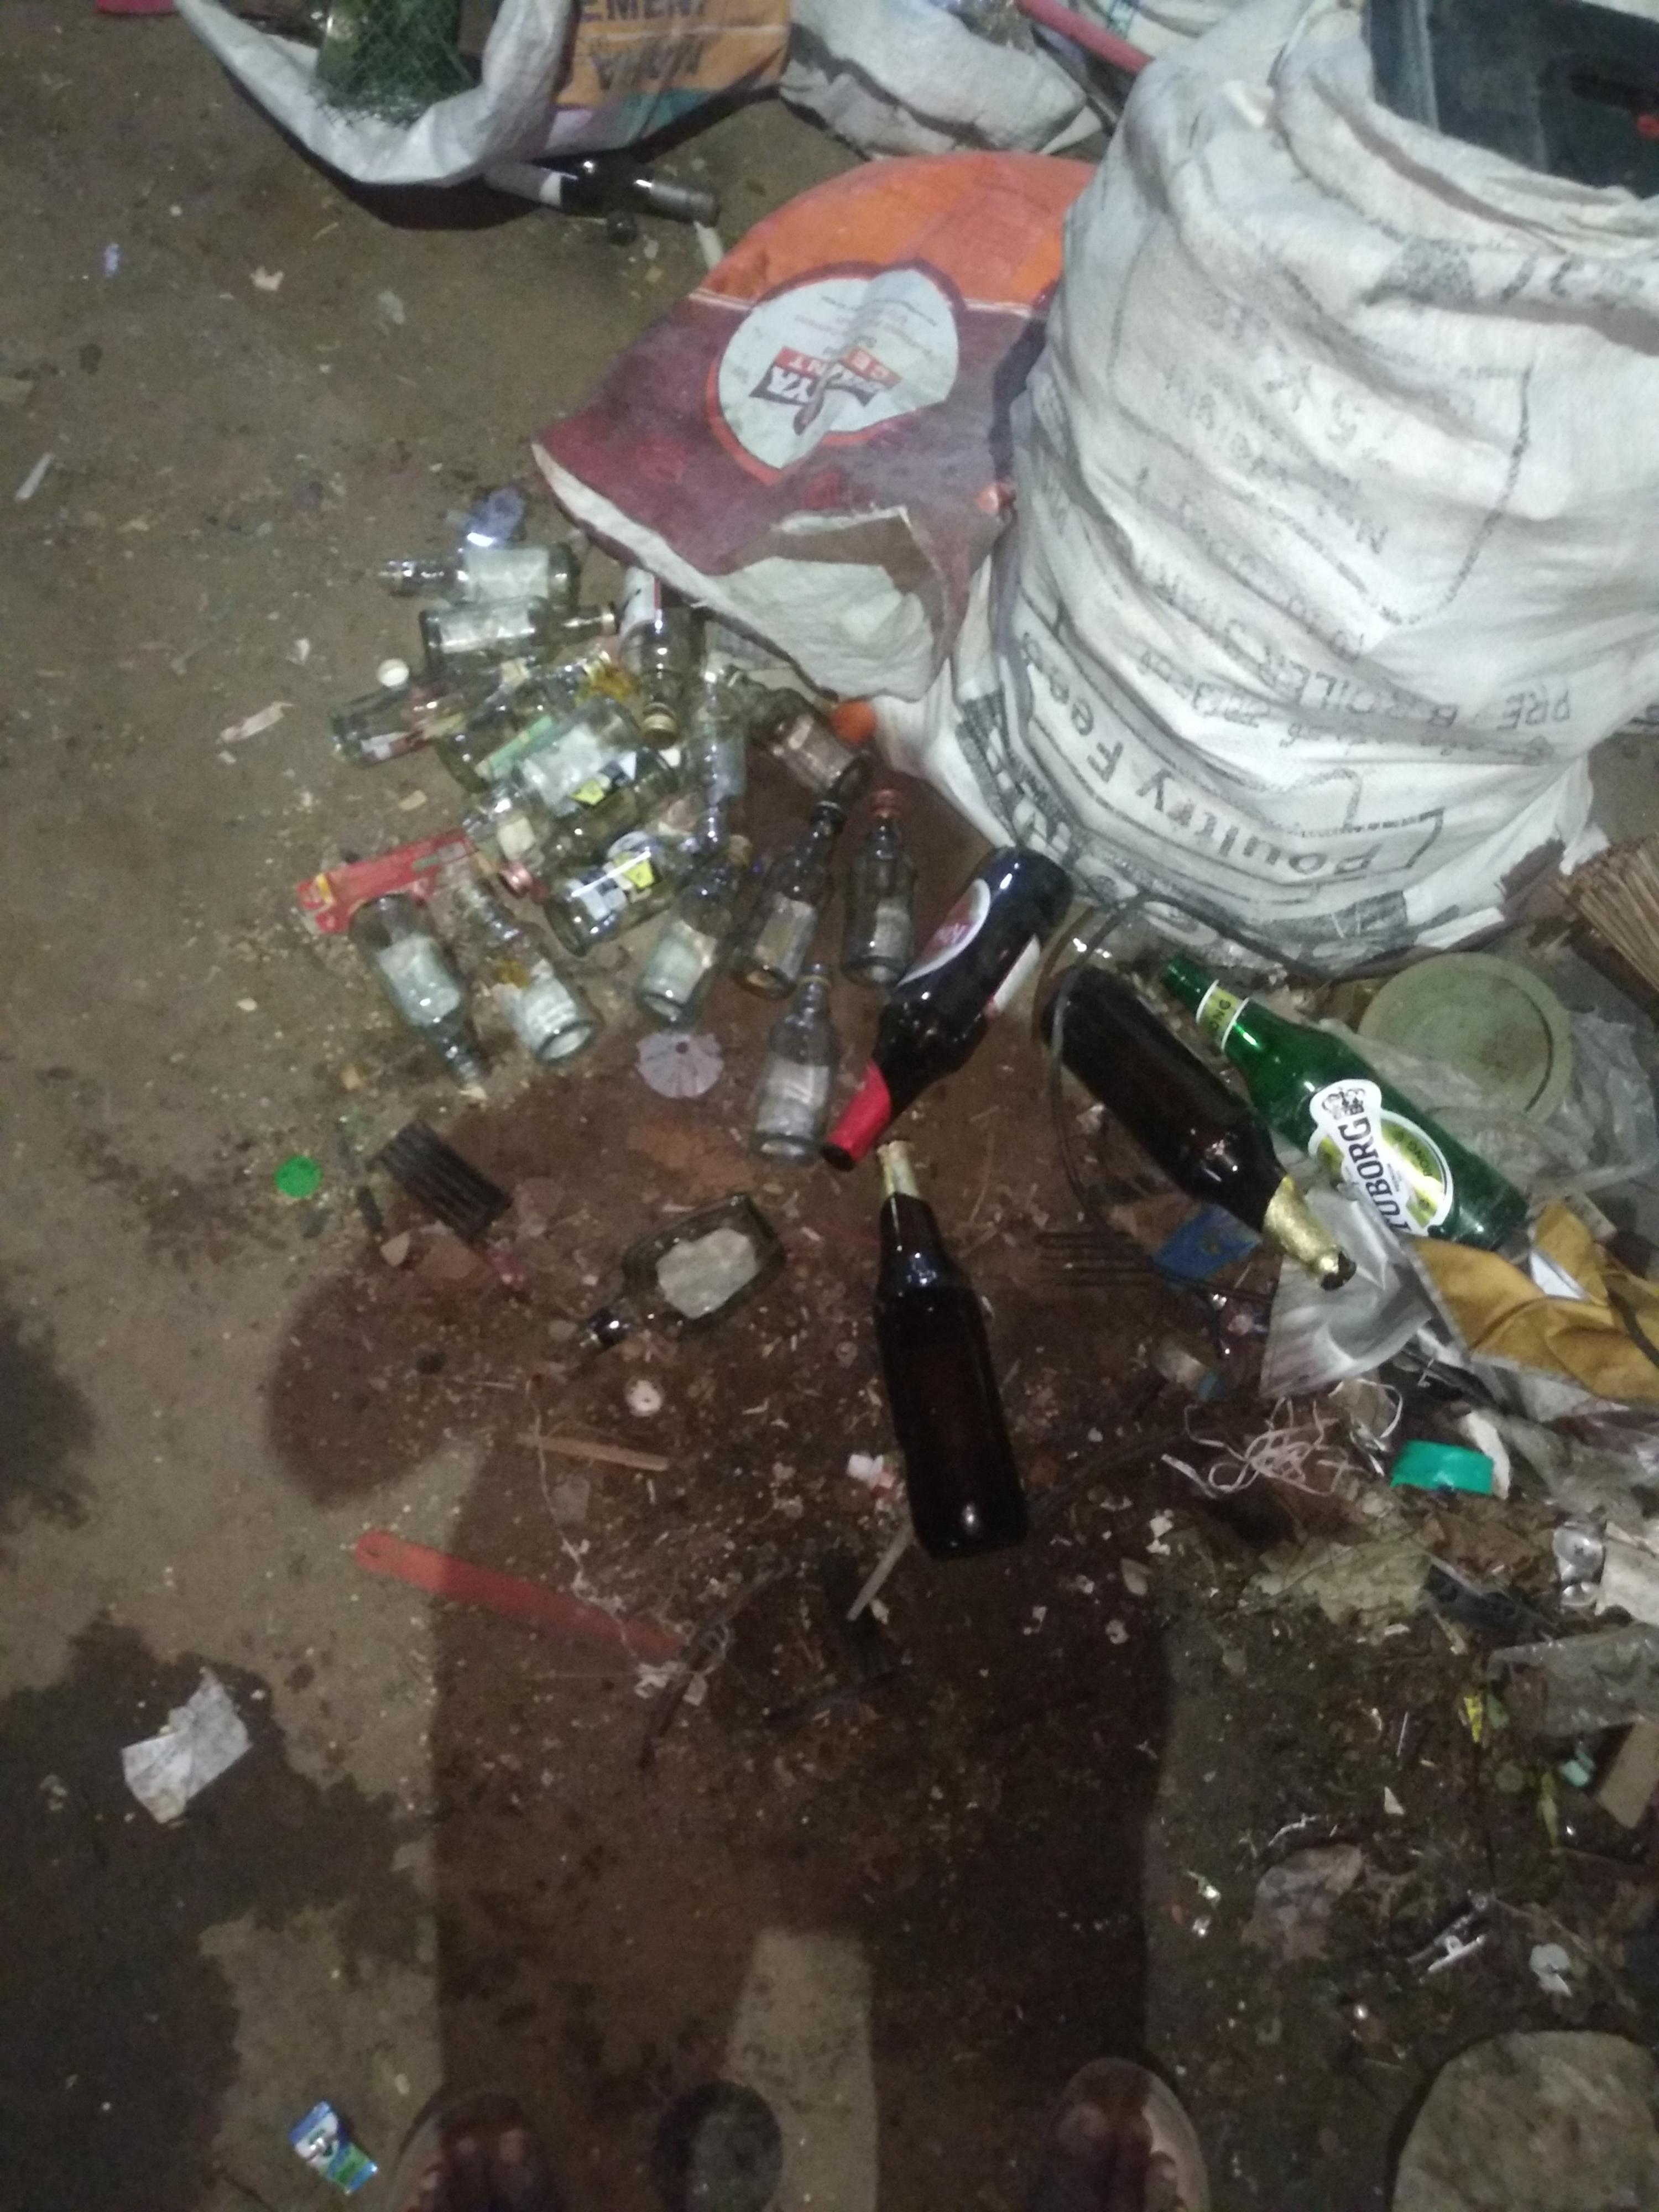trash: (157, 2, 1659, 1808)
